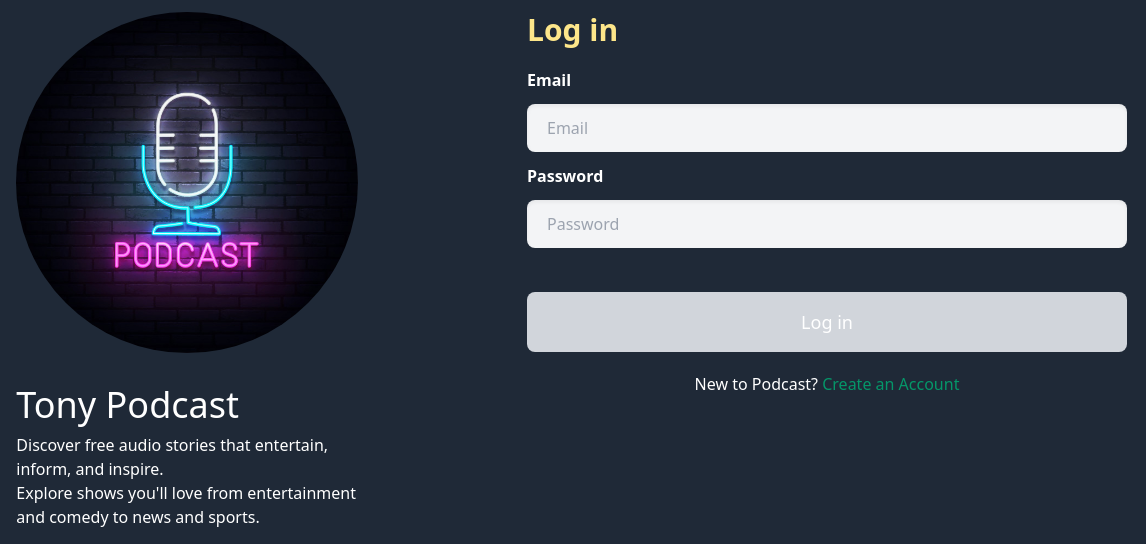
Test case: <Login /> › display password required errors
Type "this@won.com" into the field with placeholder "Email".
click(827, 128); type("this@won.com")  # box 527,104 -> 1127,152
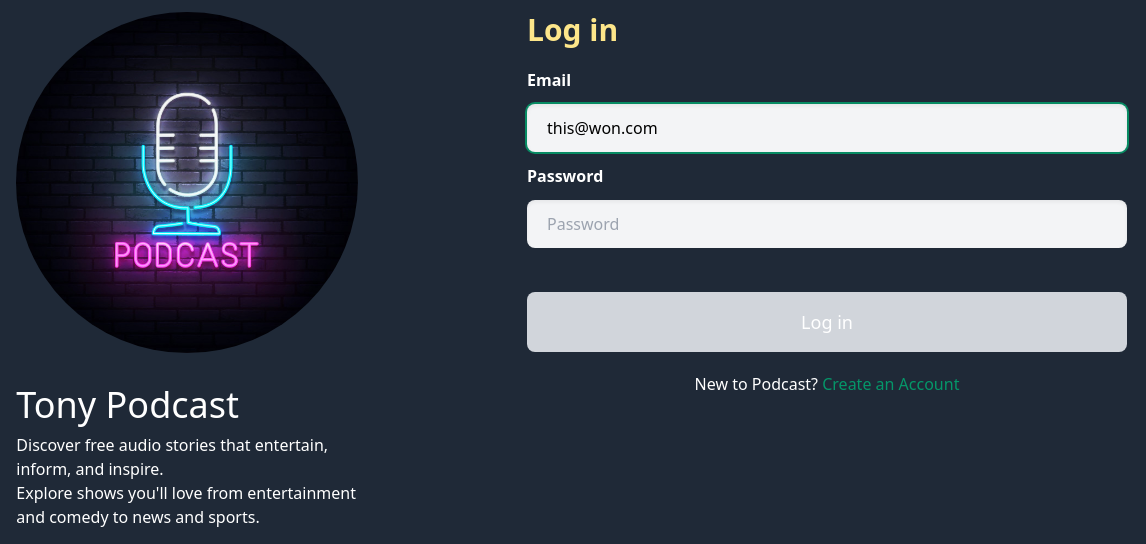
Click the button.
click(827, 322)  # box 527,292 -> 1127,352
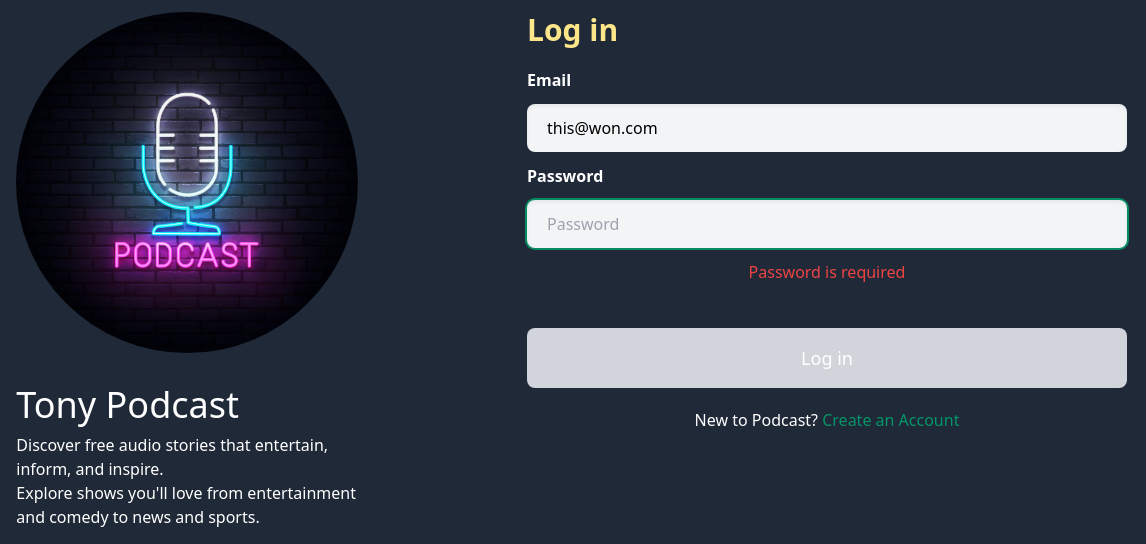
expect the message reads "Password is required": met, box 749,261 -> 905,283
